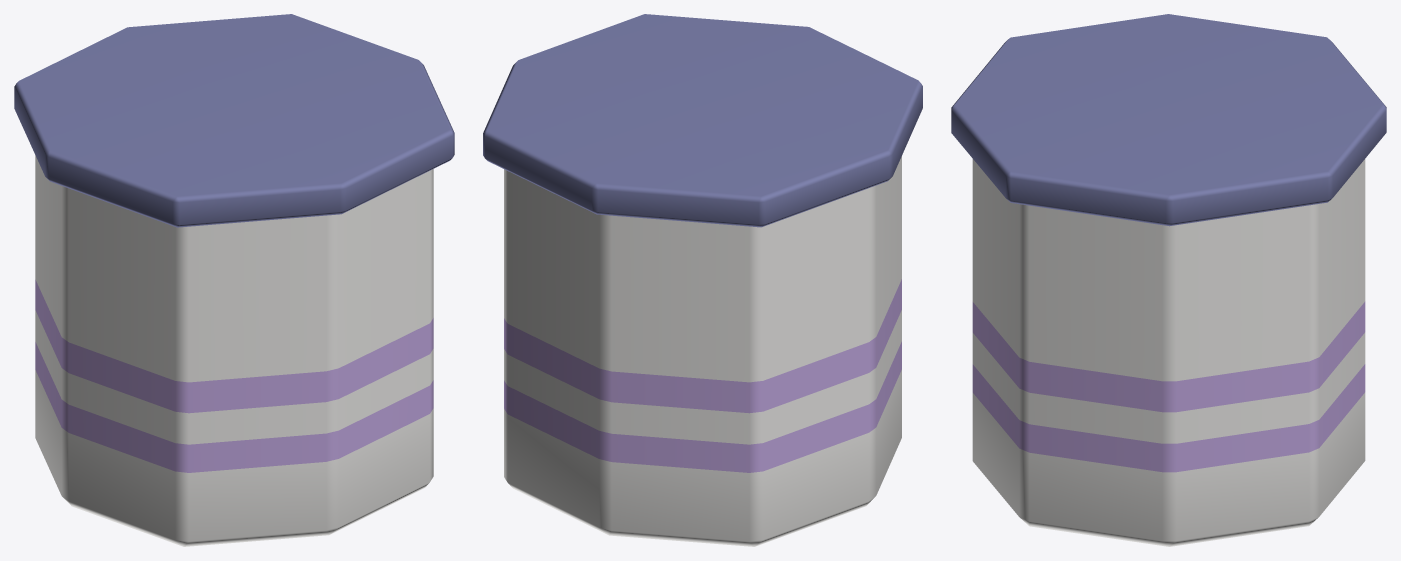
Rendered from Jar_4.glb.
3 views of the same model, side by side, from view 1: azimuth 30°, elevation 25°; view 2: azimuth 150°, elevation 25°; view 3: azimuth 270°, elevation 25° (orthographic).
Visible parts, largest first — view 1: Jar_4; view 2: Jar_4; view 3: Jar_4.
Part boxes in pixels (x1,y1,x2,y2): Jar_4: [14, 14, 454, 546]; Jar_4: [483, 14, 922, 546]; Jar_4: [951, 14, 1386, 546].
Size of the model in its own units: 0.1399 by 0.1286 by 0.1399.
1 material, 1 textured.
